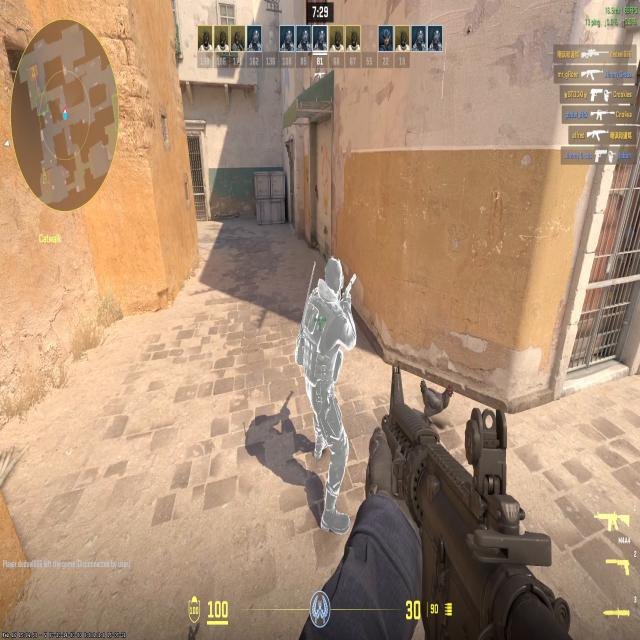player: (280, 239, 382, 544)
